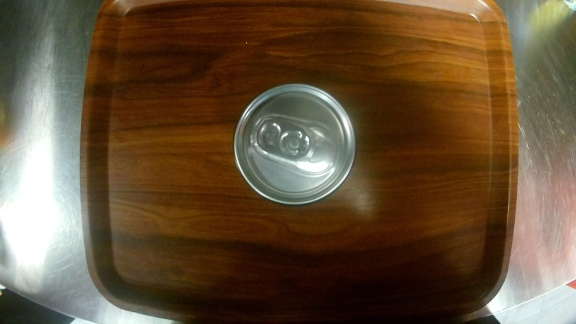kutukola: (229, 79, 362, 211)
